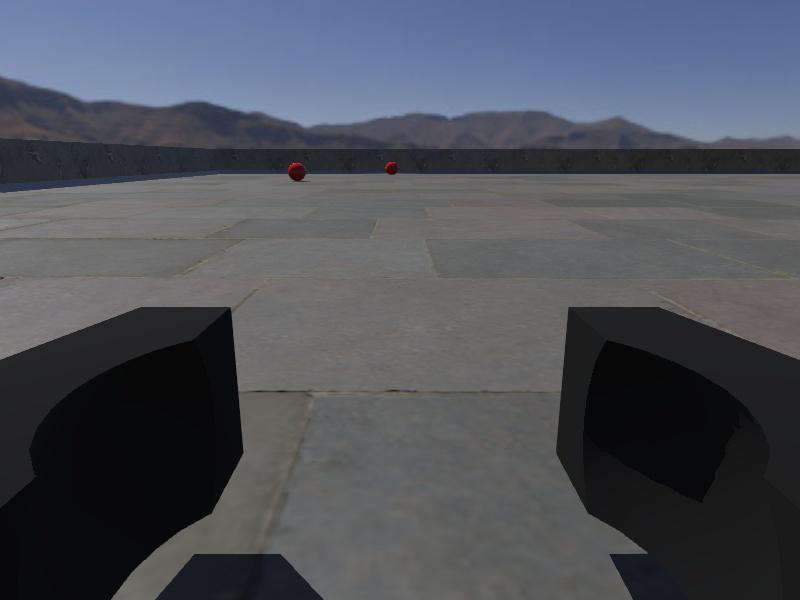red ball: (287, 162, 307, 182), (384, 160, 400, 176)
